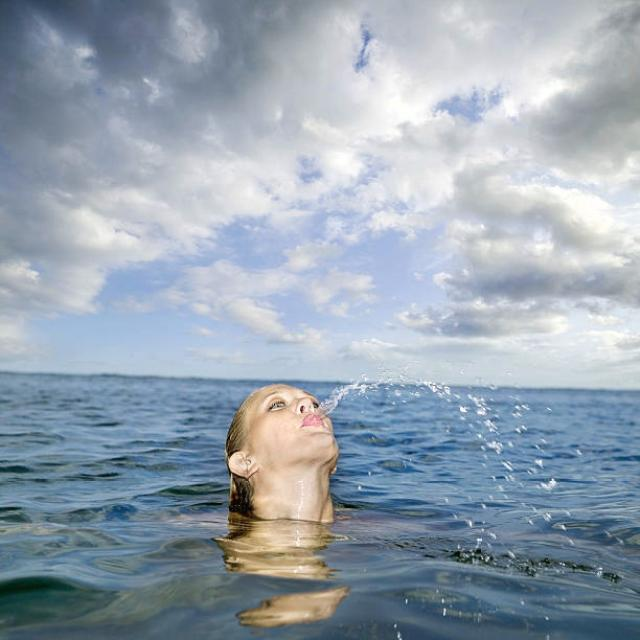Spitting: (221, 354, 392, 532)
